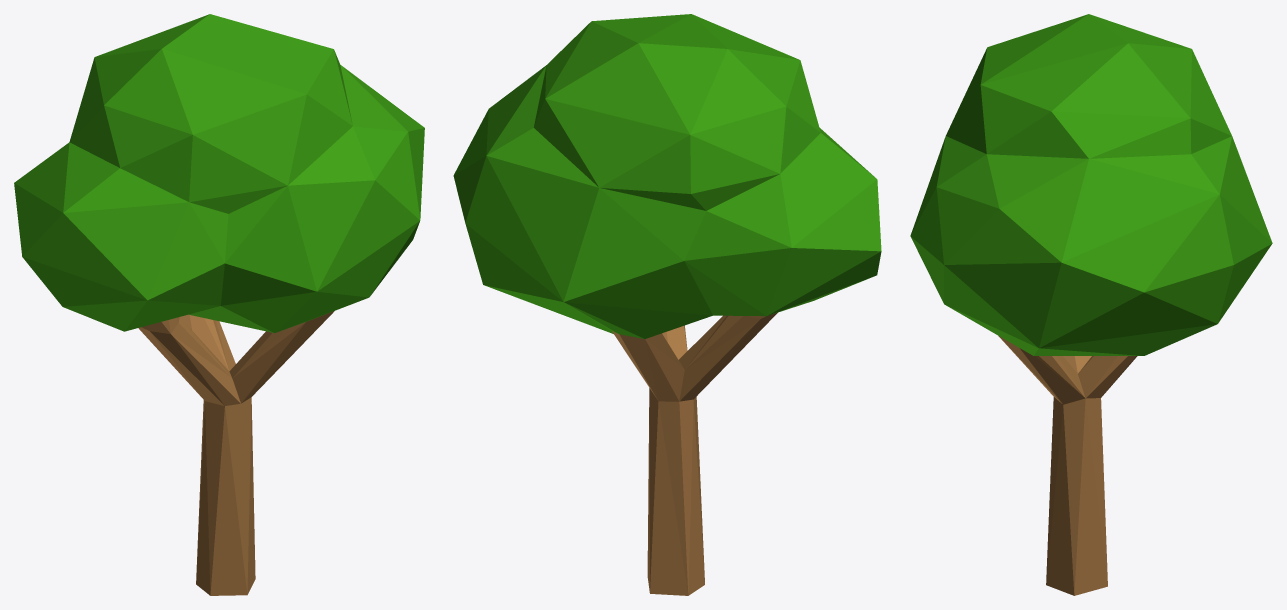
The model's file is tree.gltf.
3 views of the same model, side by side, from view 1: azimuth 30°, elevation 25°; view 2: azimuth 150°, elevation 25°; view 3: azimuth 270°, elevation 25° (orthographic). The views are drawn at different scales.
Visible parts, largest first — view 1: Icosphere; view 2: Icosphere; view 3: Icosphere.
Boxes of the visible parts, bbox=[...] form: Icosphere: bbox=[14, 14, 424, 595]; Icosphere: bbox=[453, 14, 881, 595]; Icosphere: bbox=[910, 14, 1272, 595].
Size of the model in its own units: 4.05 by 5.39 by 3.26.
Materials: 1 (1 with a texture image).
